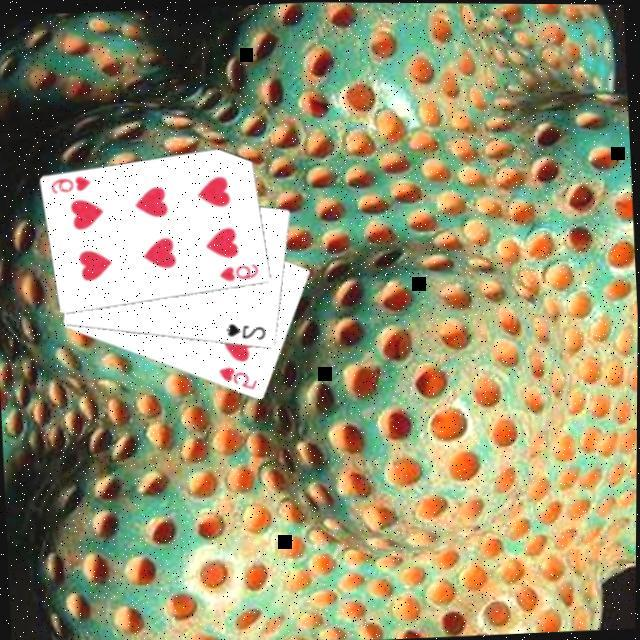2S: (222, 321, 269, 346)
5H: (216, 364, 262, 396)
6H: (46, 175, 94, 199), (215, 262, 262, 286)
